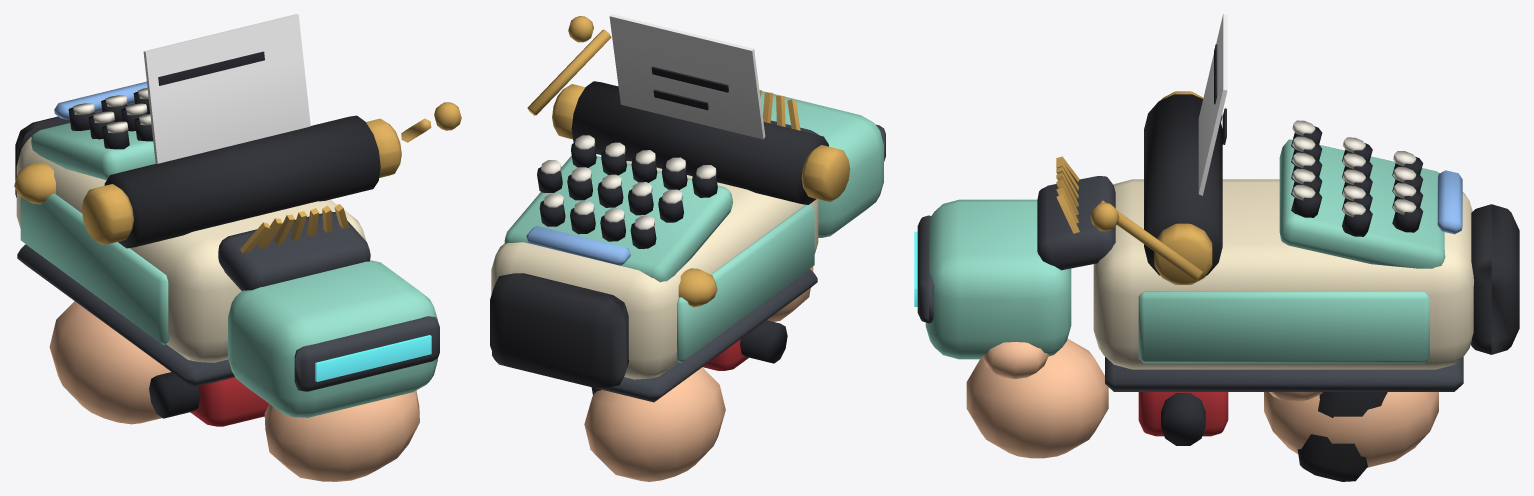
Rendered from gun.glb.
3 views of the same model, side by side, from view 1: azimuth 30°, elevation 25°; view 2: azimuth 150°, elevation 25°; view 3: azimuth 270°, elevation 25° (orthographic). The views are drawn at different scales.
Visible parts, largest first — view 1: Gun, FPHand.L, FPHand.R, Magazine; view 2: Gun, FPHand.R, Magazine, FPHand.L; view 3: Gun, FPHand.L, FPHand.R, Magazine.
Boxes of the visible parts, x1,y1,x2,y2 form: Gun: (14, 14, 461, 417); FPHand.L: (264, 390, 419, 481); FPHand.R: (49, 301, 170, 424); Magazine: (149, 372, 268, 426); Gun: (490, 14, 885, 402); FPHand.R: (584, 367, 725, 481); Magazine: (703, 320, 787, 370); FPHand.L: (767, 266, 813, 321); Gun: (914, 14, 1519, 481); FPHand.L: (966, 338, 1108, 458); FPHand.R: (1264, 392, 1438, 467); Magazine: (1138, 392, 1228, 445).
Size of the model in its own units: 0.343 by 0.4201 by 0.54.
3 materials, 3 textured.
